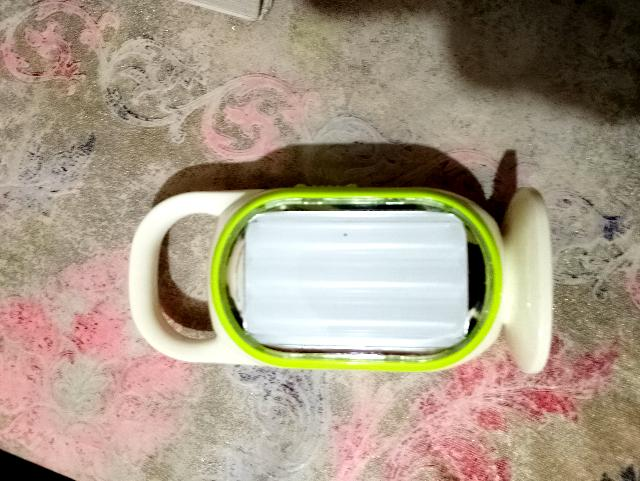hardplastic: (124, 179, 560, 373)
